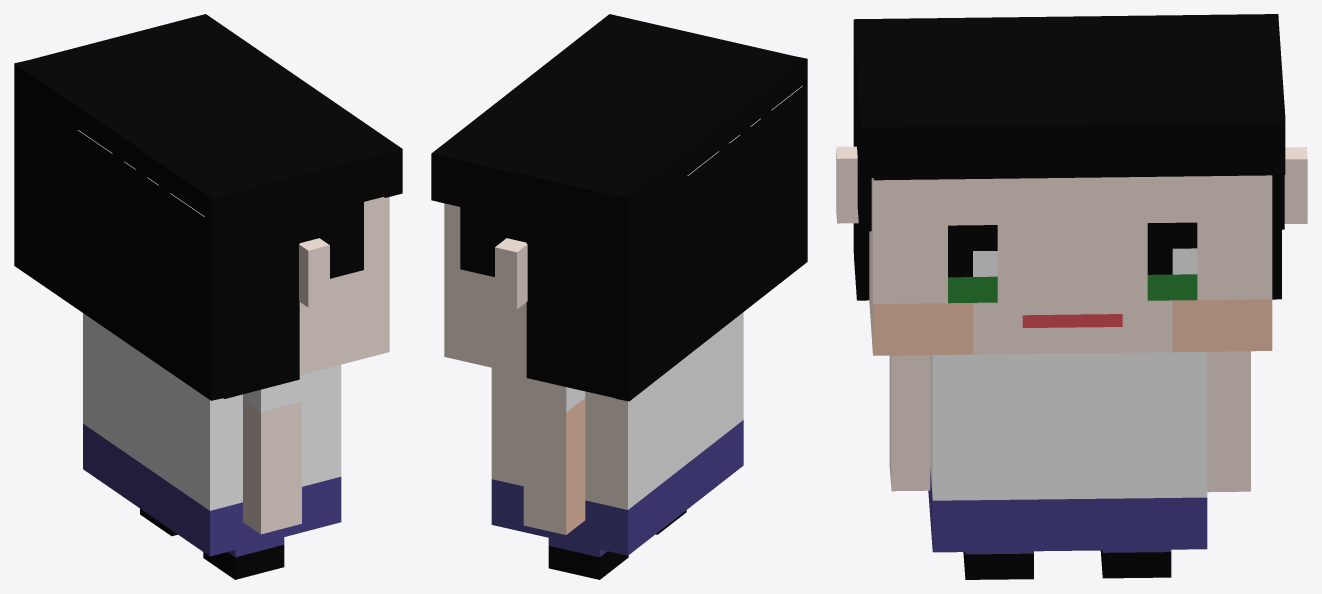
File: 플레이어 예시4.fbx
3 views of the same model, side by side, from view 1: azimuth 30°, elevation 25°; view 2: azimuth 150°, elevation 25°; view 3: azimuth 270°, elevation 25° (orthographic). The views are drawn at different scales.
Parts seen in each view (by area): view 1: Cube; view 2: Cube; view 3: Cube.
Boxes of the visible parts, x1,y1,x2,y2 form: Cube: (14,14,402,579); Cube: (431,14,807,579); Cube: (836,14,1307,579).
Size of the model in its own units: 234 by 477 by 413.
